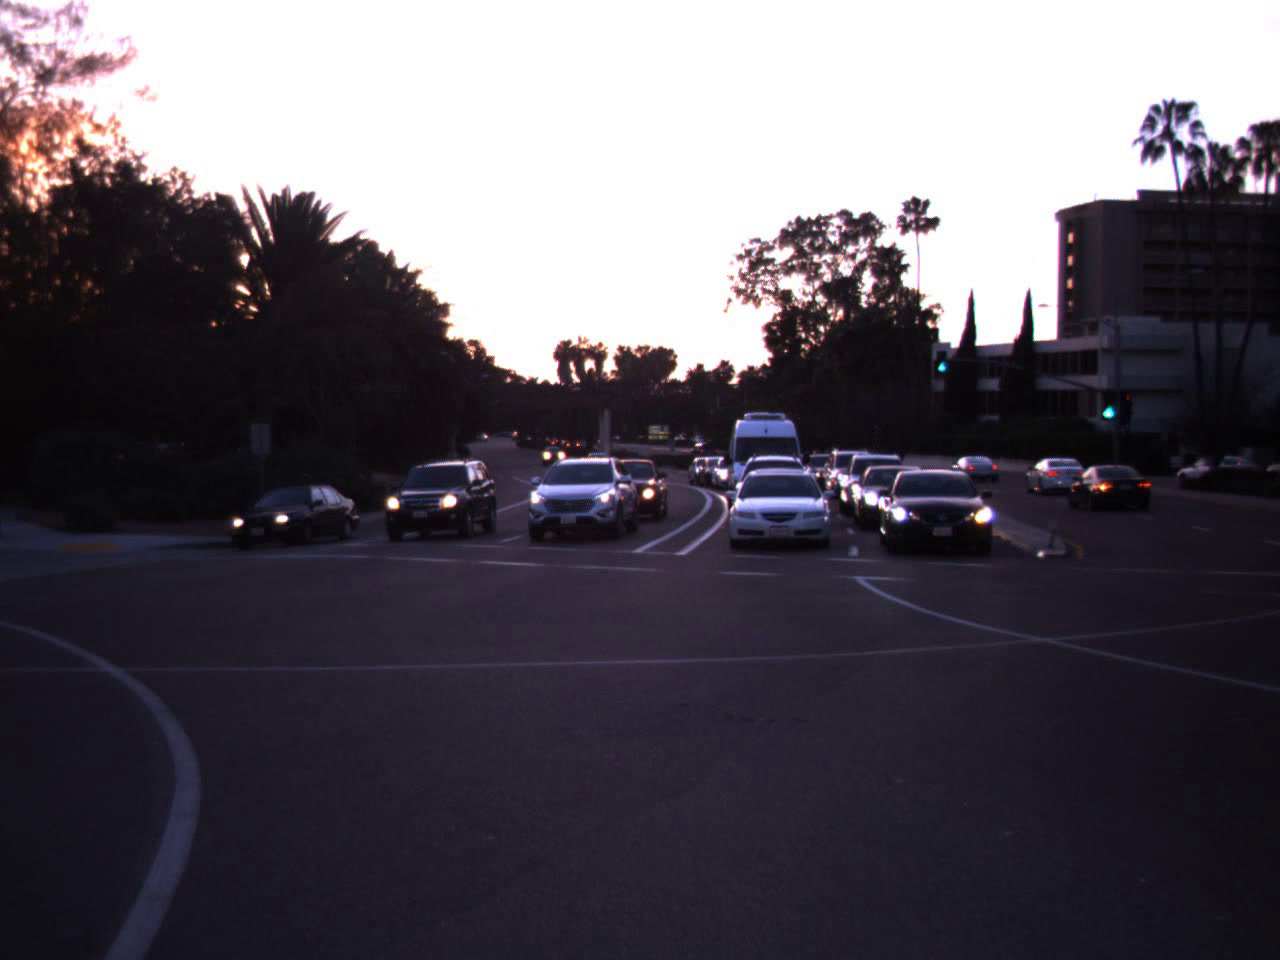go: (1095, 373, 1122, 423), (933, 339, 951, 374)
